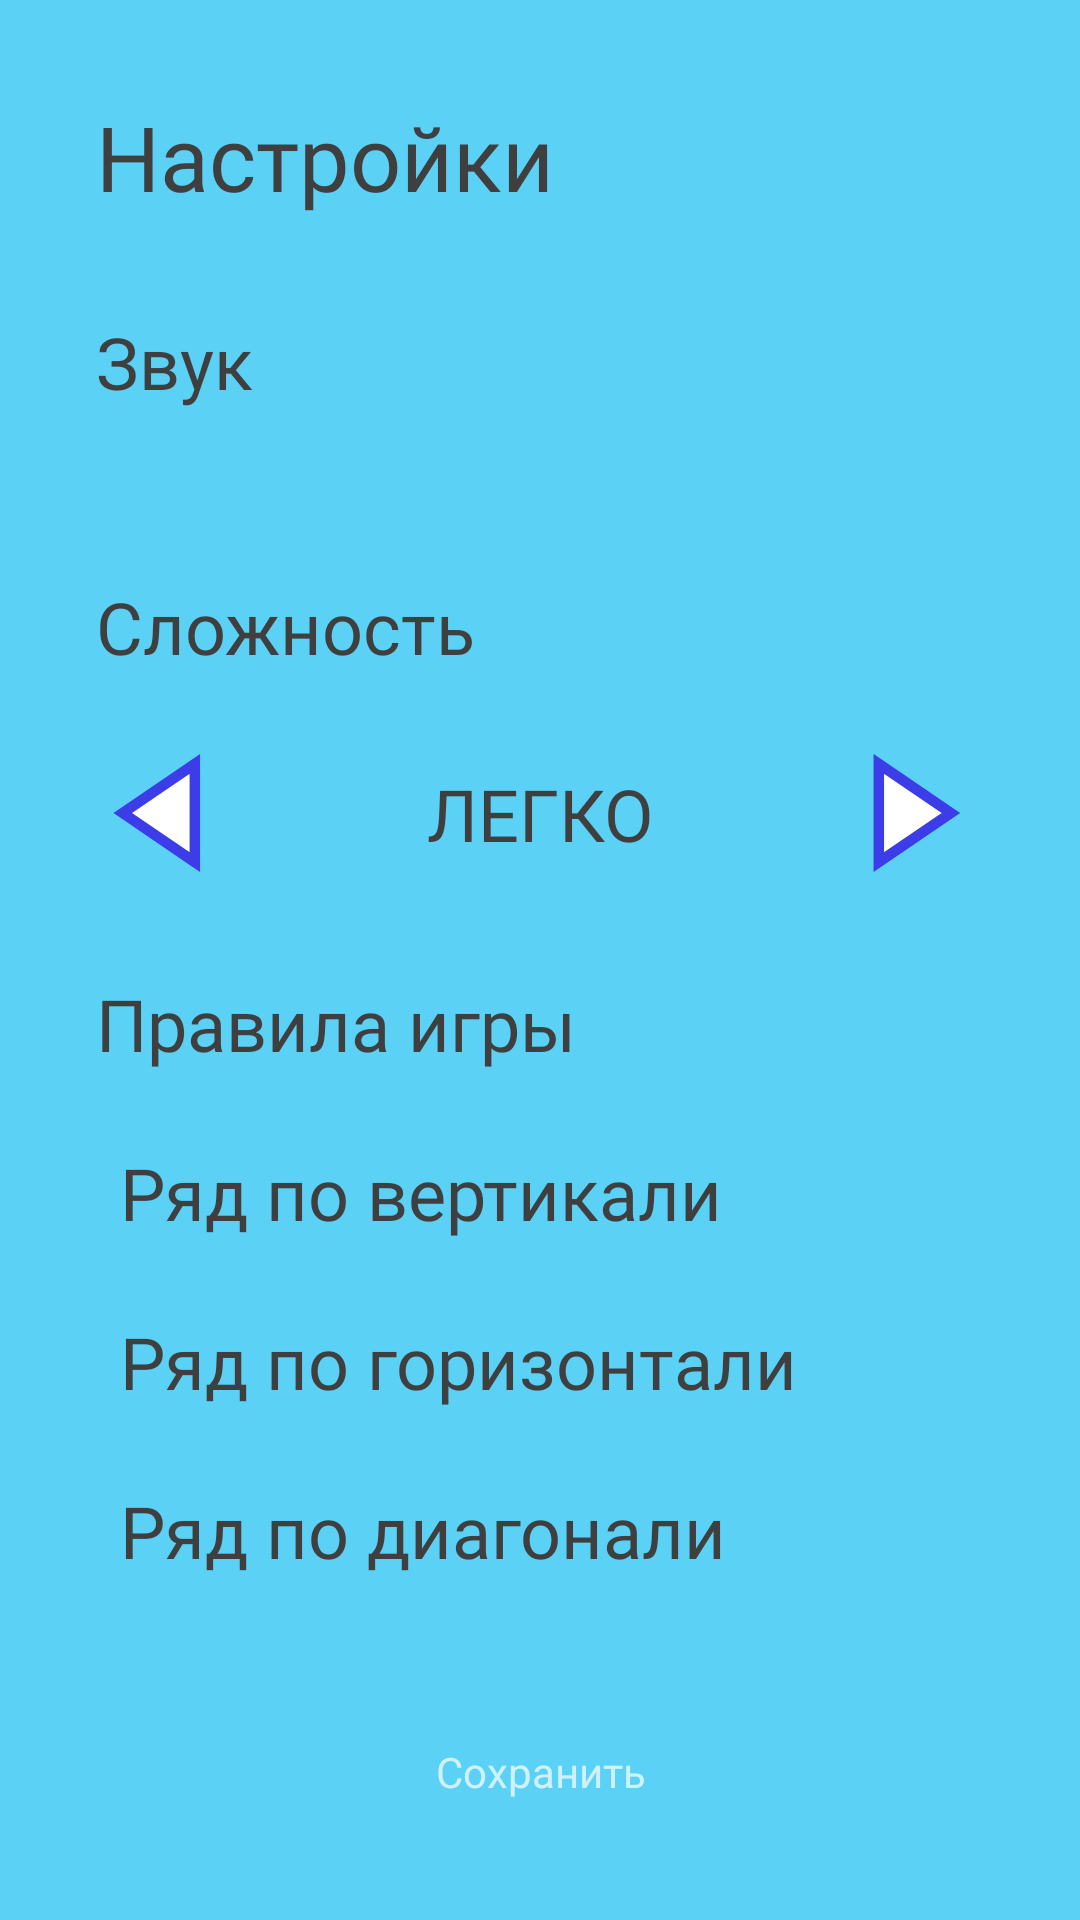

Icons on this 1080w x 1920h Android screen, each with its box as (x1, y1, x2, y2):
next: (873, 754, 960, 872)
prev: (114, 754, 200, 872)
